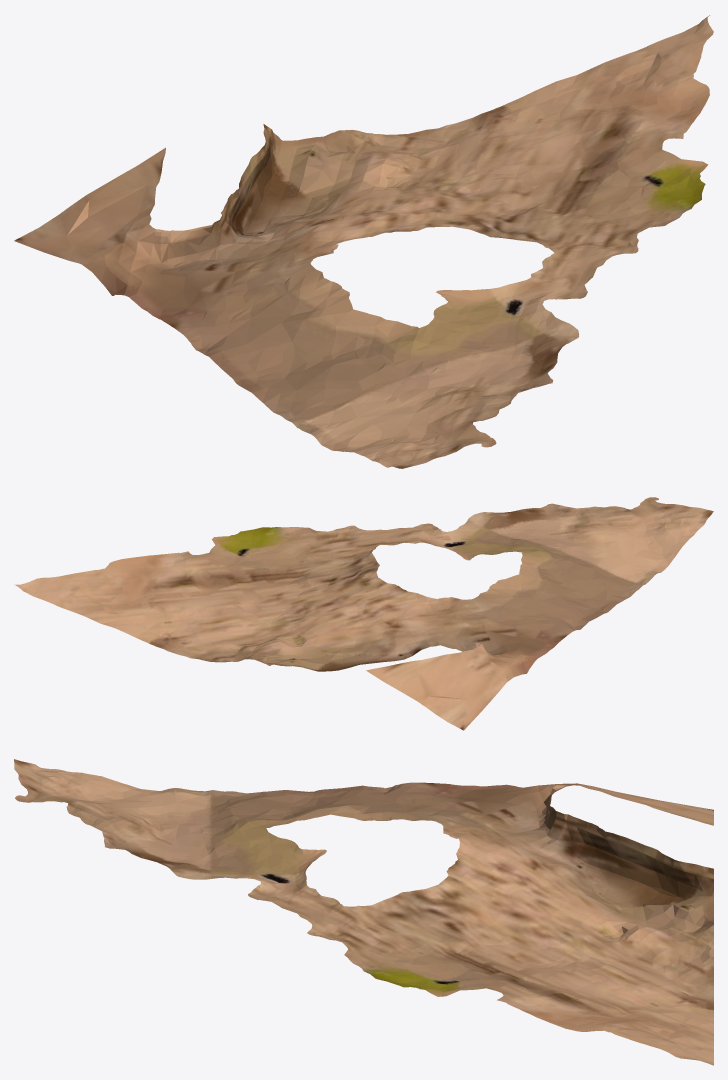
3 renders of one model, top to bottom at view 1: azimuth 30°, elevation 25°; view 2: azimuth 150°, elevation 25°; view 3: azimuth 270°, elevation 25°, orthographic. The views are drawn at different scales.
Bounding box in the file's own units: 3 × 0.2319 × 2.89.
1 material, 1 textured.
